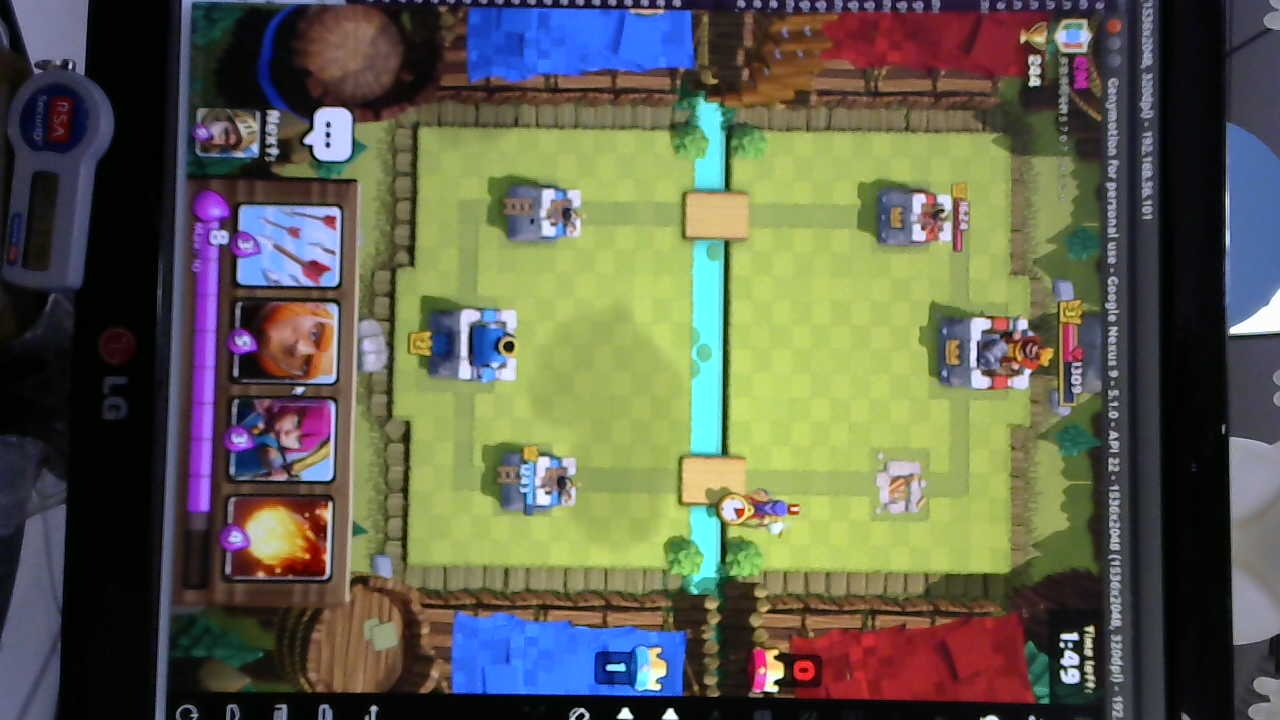witchE: (717, 486, 800, 535)
